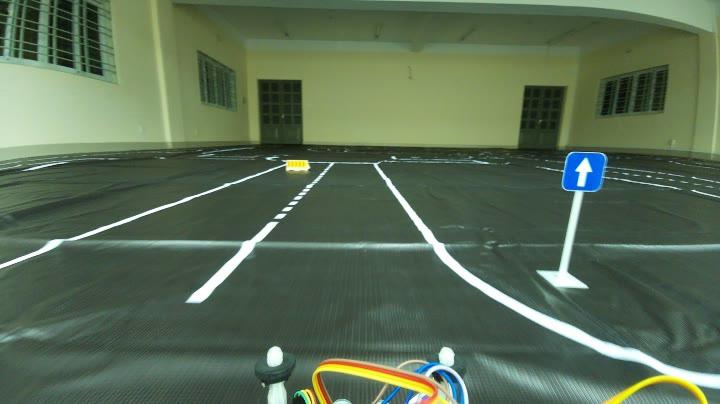onewayroad: (566, 146, 602, 196)
roadblock: (283, 157, 308, 174)
